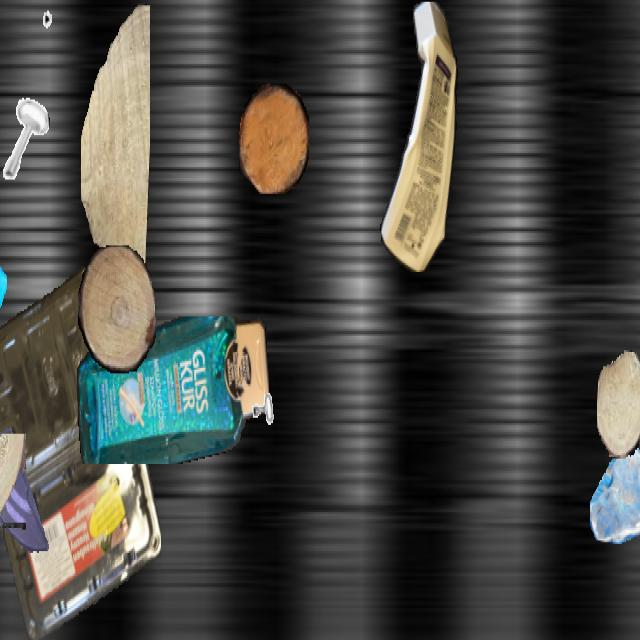glass: (0, 416, 54, 558), (590, 439, 640, 542), (0, 247, 6, 368), (0, 489, 4, 638)
metal: (0, 92, 49, 182), (243, 351, 287, 428), (42, 2, 82, 73)
plastic: (0, 265, 161, 638), (77, 316, 269, 462), (374, 2, 462, 272)
wood: (81, 1, 149, 282), (78, 245, 156, 374), (239, 84, 309, 194), (597, 350, 640, 457), (0, 434, 26, 540)
